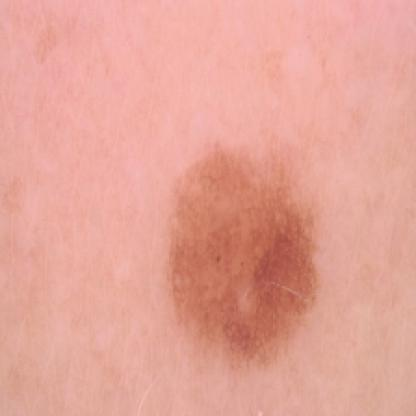benign: (169, 160, 332, 366)
